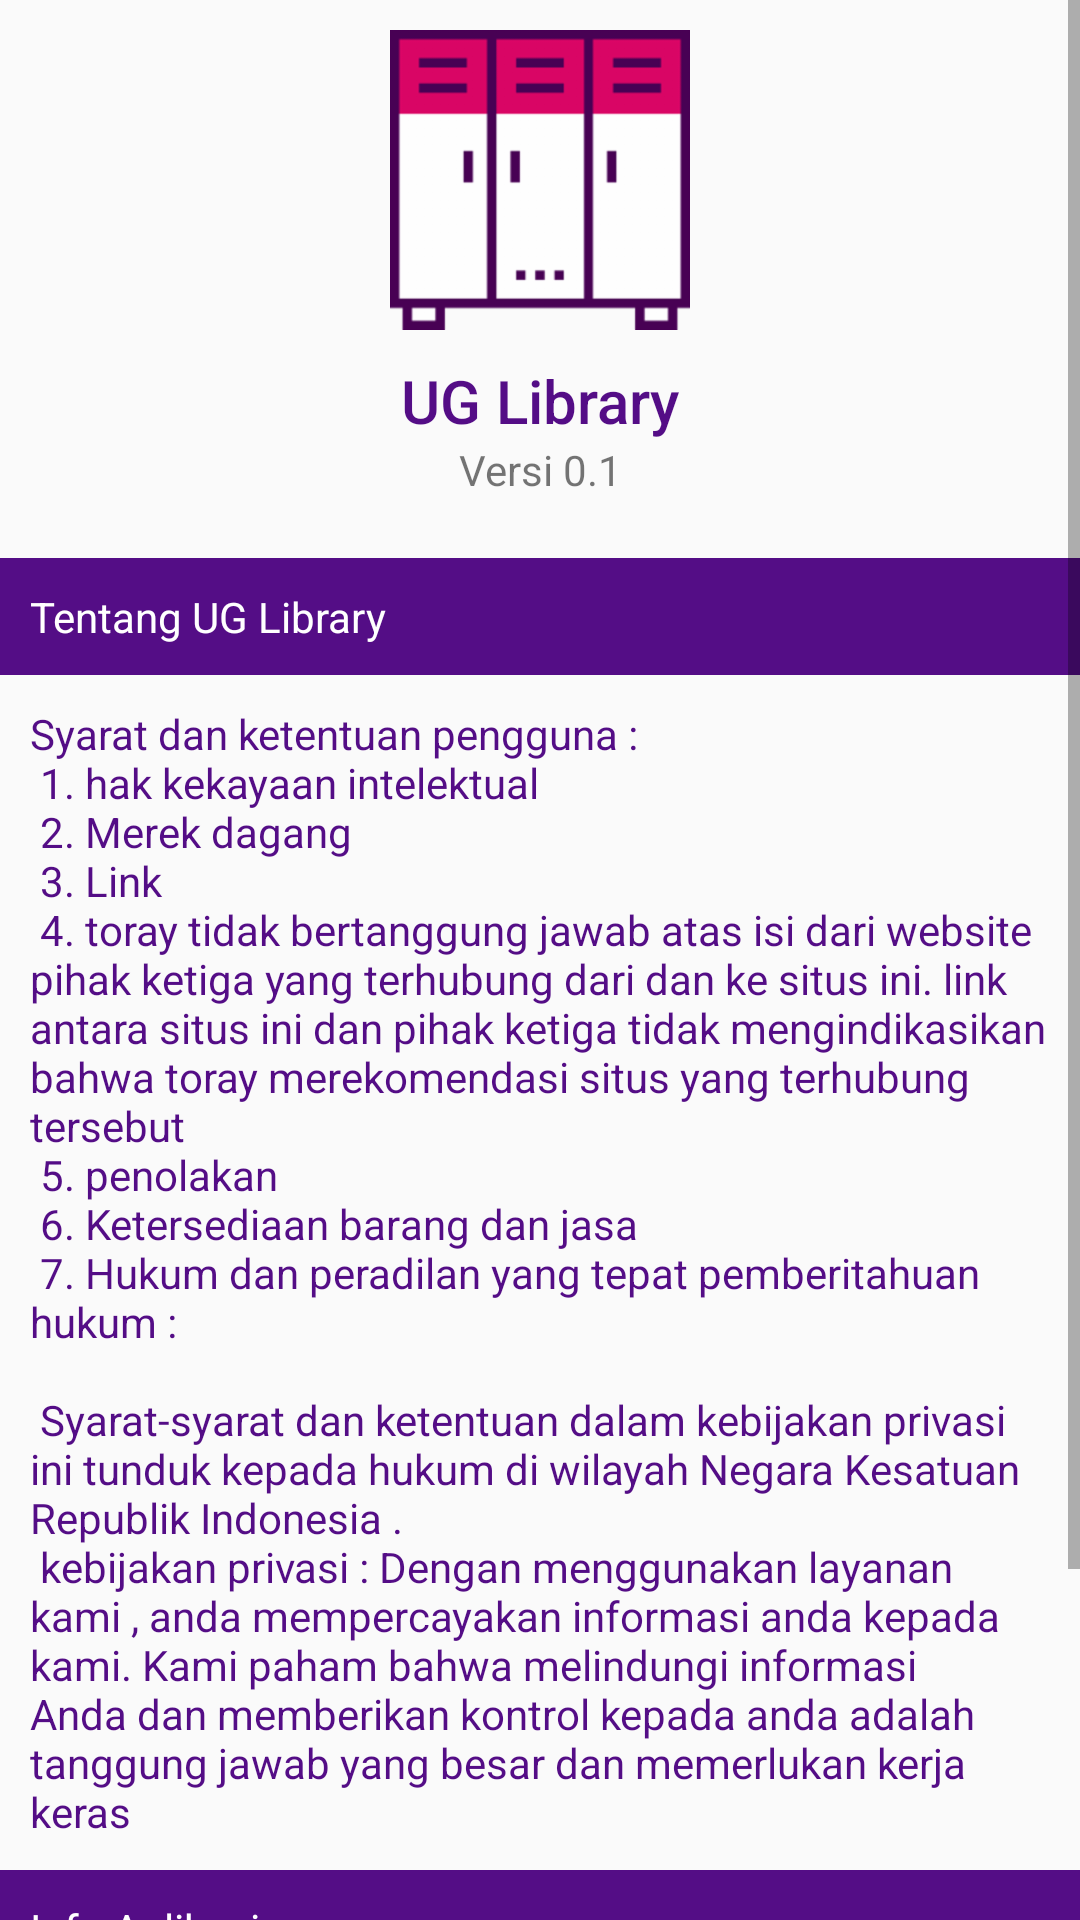

Icons on this 1080 x 1920 Android screen, each with its box as (x1, y1, x2, y2):
loker: (390, 30, 690, 330)
